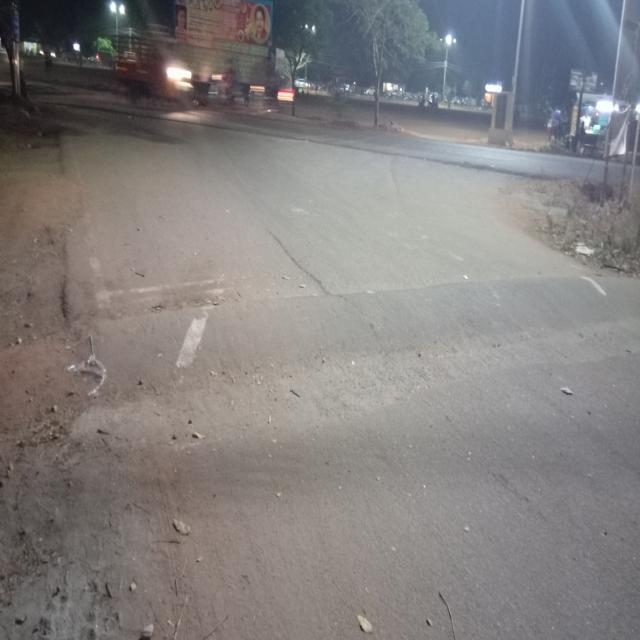Speed_Breaker: (0, 267, 639, 424), (0, 274, 639, 422)
